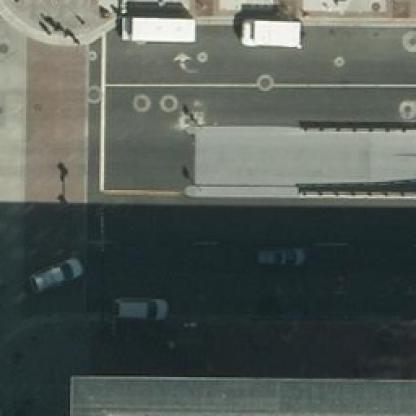car: (250, 236, 306, 272), (107, 290, 166, 324), (29, 255, 80, 294)
